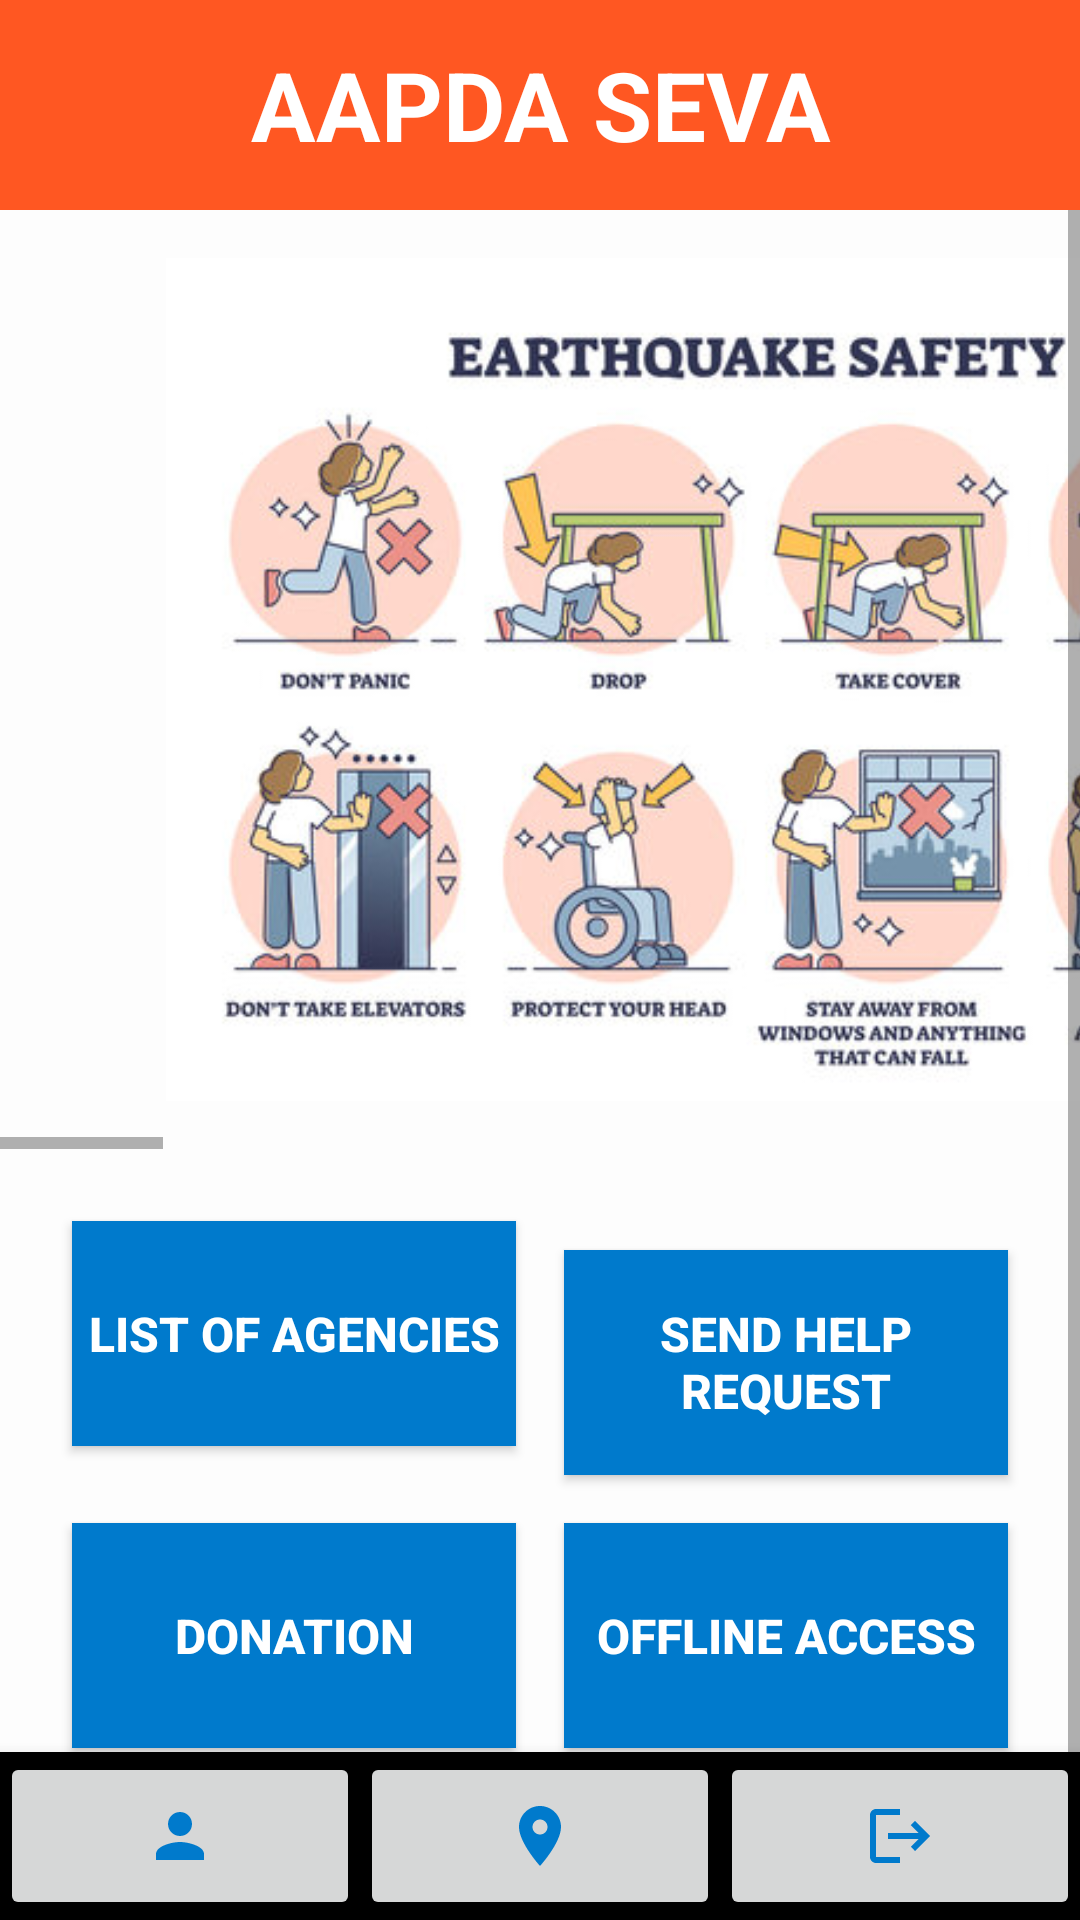

Locate icon controls on the screen. Image size 1080 x 1920, boxes as BBox(x1, y1, x2, y2).
location on: BBox(372, 1770, 708, 1902)
person: BBox(12, 1770, 348, 1902)
